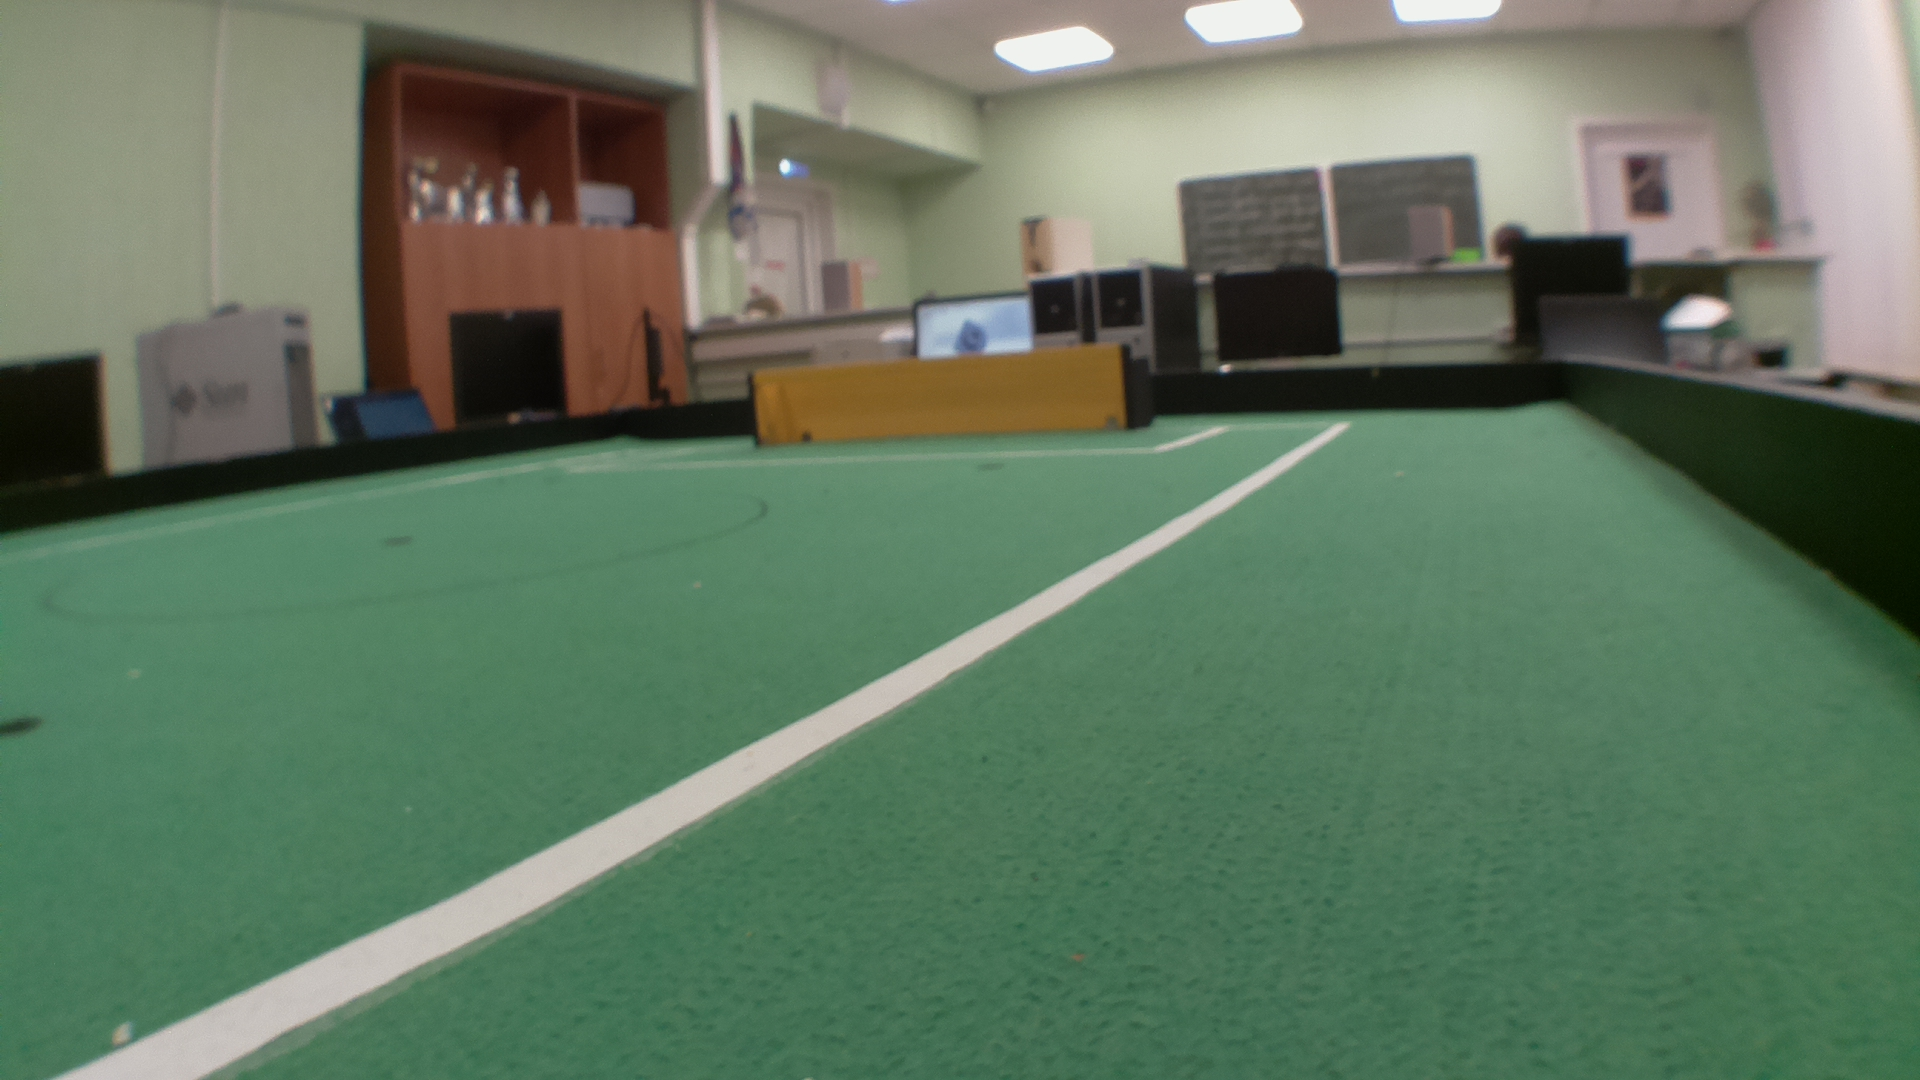YellowGoal: (752, 343, 1129, 443)
